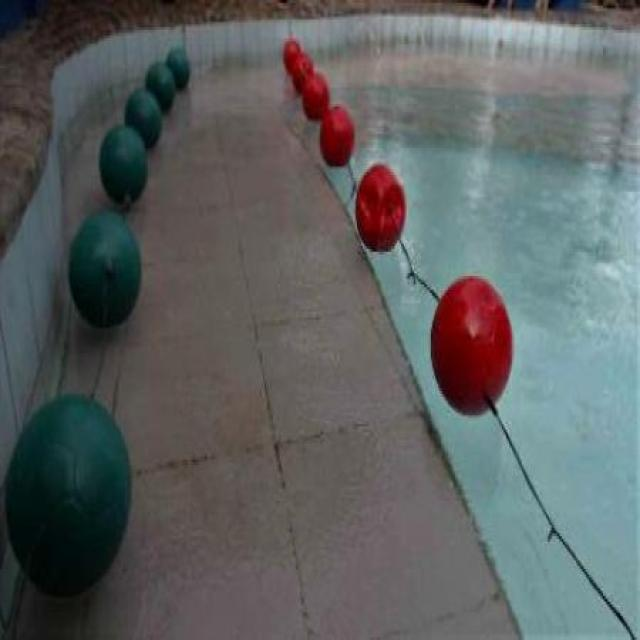buoy: (2, 393, 130, 597), (430, 275, 512, 415), (67, 210, 142, 326), (354, 164, 404, 252), (98, 125, 148, 204), (124, 86, 162, 149), (319, 106, 355, 167), (144, 59, 176, 110), (302, 71, 329, 121), (167, 46, 190, 90), (292, 52, 314, 90), (284, 40, 301, 70)
